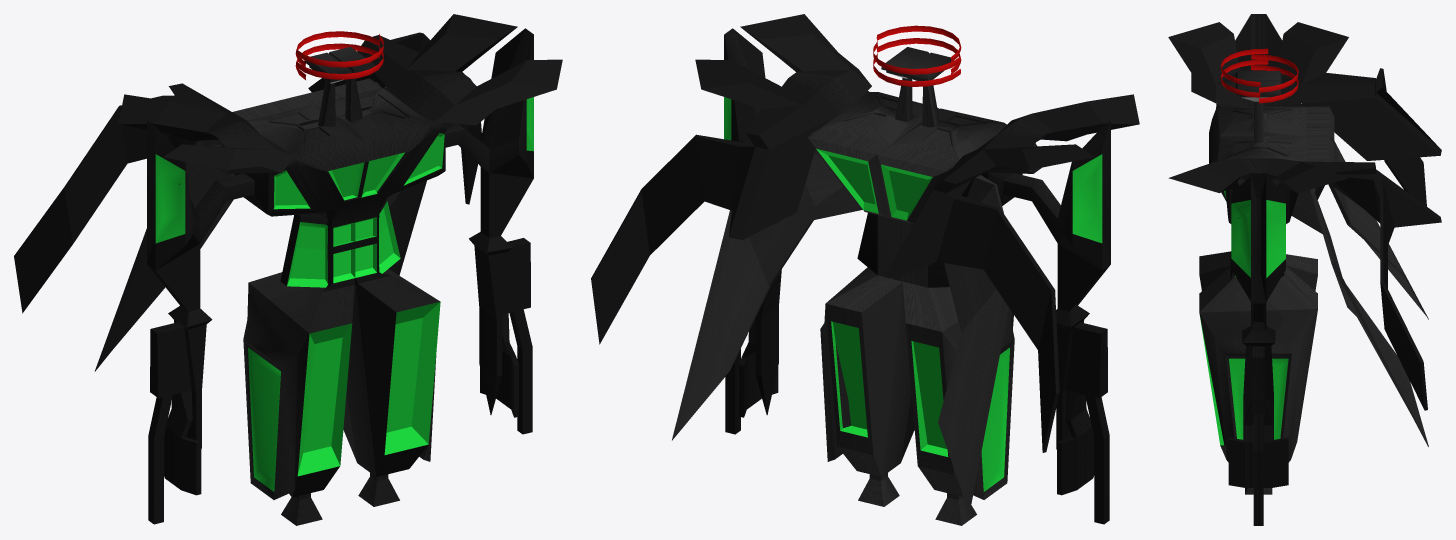
Rendered from BossAttackPrep.fbx.
The picture shows the model from 3 angles, left to right: view 1: azimuth 30°, elevation 25°; view 2: azimuth 150°, elevation 25°; view 3: azimuth 270°, elevation 25°; orthographic projection. The views are drawn at different scales.
Parts seen in each view (by area): view 1: polySurface2; view 2: polySurface2; view 3: polySurface2.
Part boxes in pixels (x1=…): polySurface2: x1=14, y1=14, x2=562, y2=525; polySurface2: x1=591, y1=14, x2=1139, y2=525; polySurface2: x1=1168, y1=14, x2=1441, y2=525.
Bounding box in the file's own units: 14.08 × 13.32 × 8.11.
Materials: 4 (1 with a texture image).
